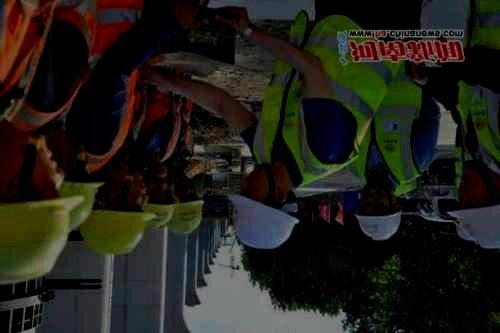helmet: (1, 124, 85, 285), (80, 165, 158, 256), (226, 160, 300, 249), (48, 133, 106, 229), (446, 159, 500, 249), (355, 183, 403, 240), (168, 172, 205, 233), (144, 167, 179, 231)
